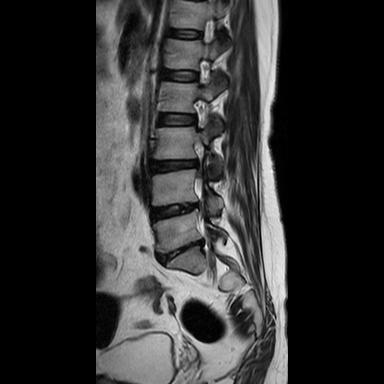RFS0: (185, 53, 215, 93), (185, 93, 214, 134)
